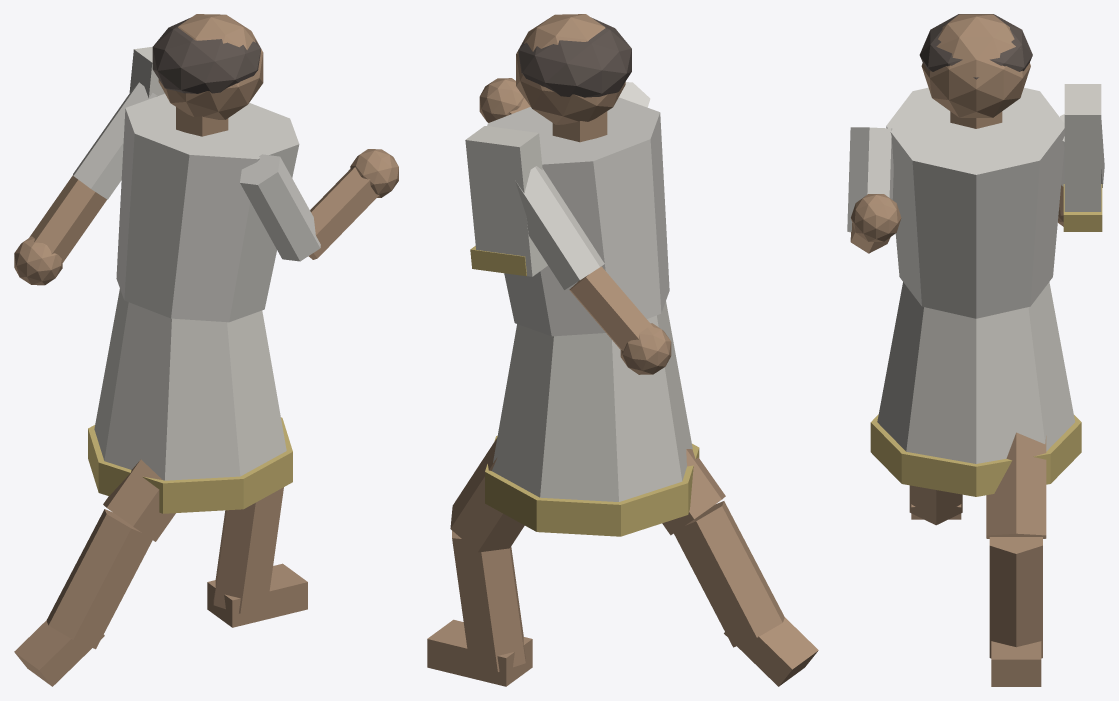
File: runner.glb
3 renders of one model, left to right at view 1: azimuth 30°, elevation 25°; view 2: azimuth 150°, elevation 25°; view 3: azimuth 270°, elevation 25°, orthographic. The views are drawn at different scales.
Parts seen in each view (by area): view 1: geometry_0; view 2: geometry_0; view 3: geometry_0.
Part boxes in pixels (x1,y1,x2,y2): geometry_0: (14,14,398,686); geometry_0: (427,14,818,686); geometry_0: (847,14,1104,686).
Size of the model in its own units: 0.5705 by 1 by 0.3766.
